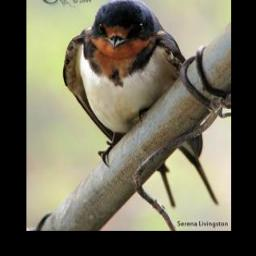Swallow: (62, 0, 219, 206)
